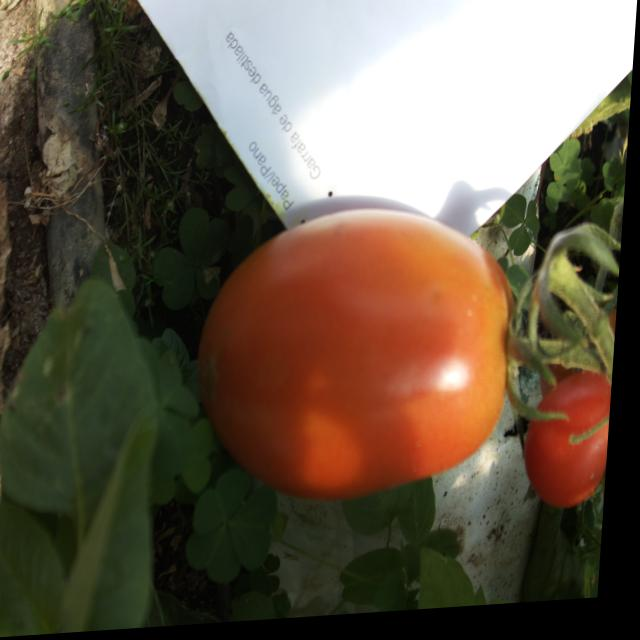kirmizi: (198, 209, 545, 518)
